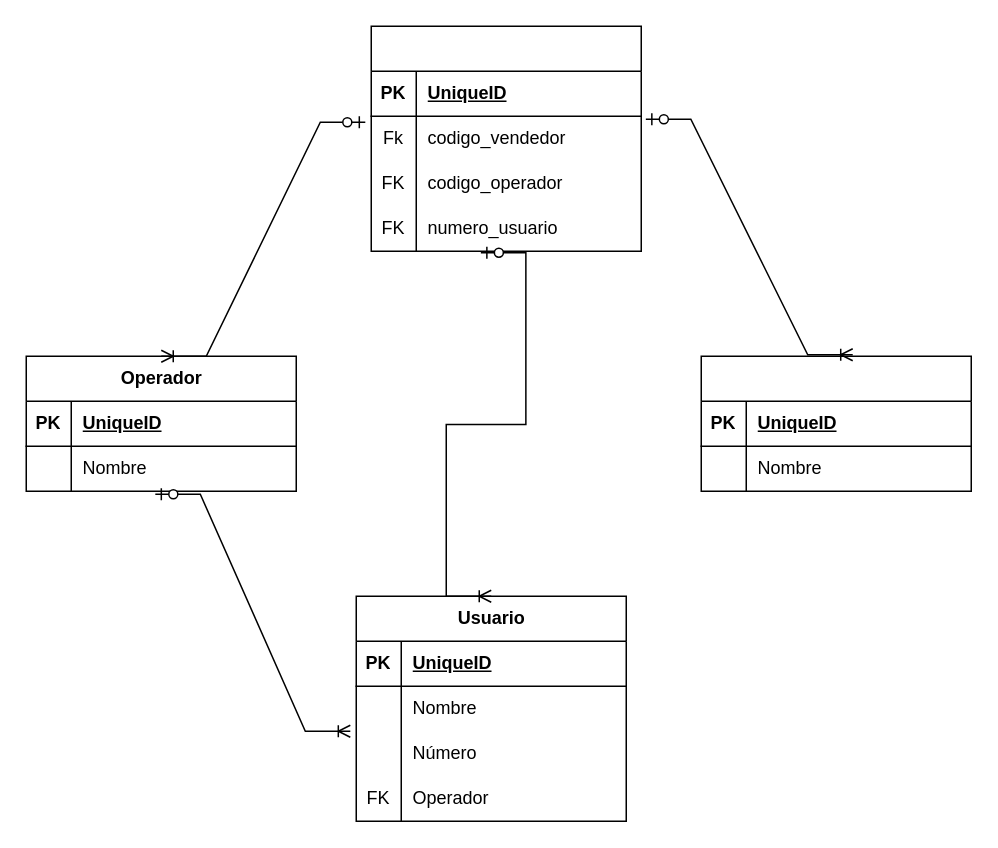
This 998x848 diagram has some shape labels left out. Each missing label, with the box of its shape:
Recarga: (370, 25, 641, 251)
Vendedor: (700, 355, 971, 491)
